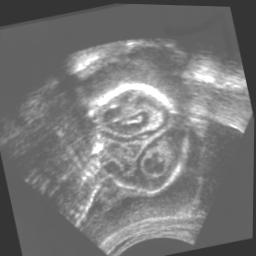abnormal: (72, 68, 203, 205)
